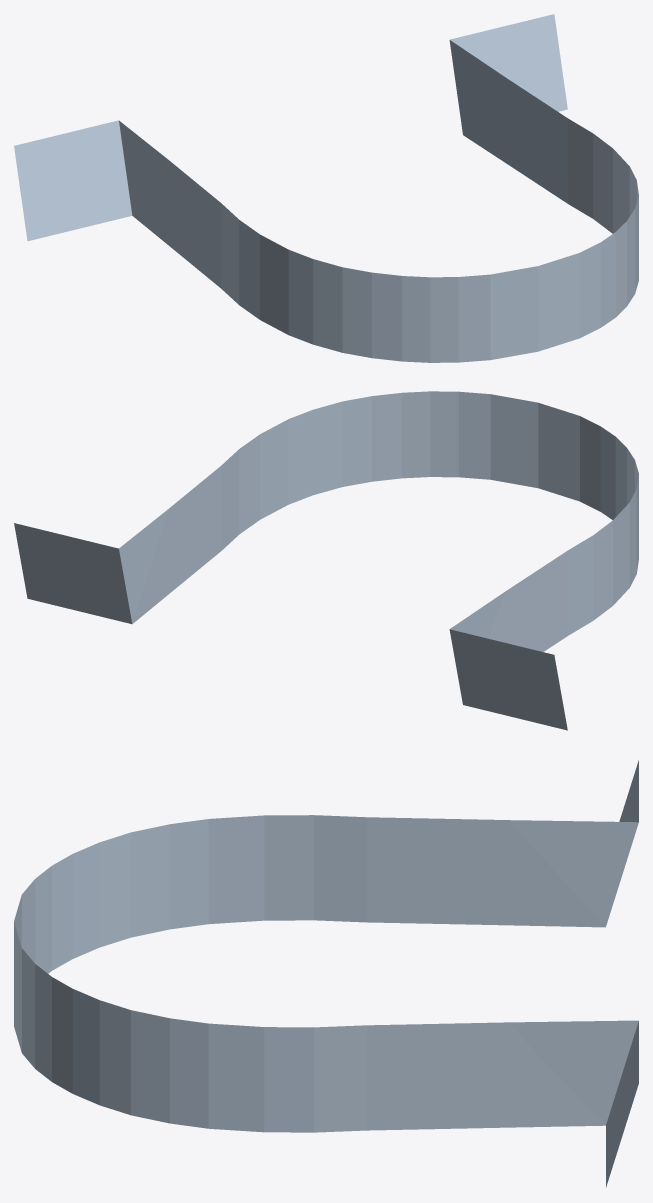
File: collision_wall.glb
The picture shows the model from 3 angles, top to bottom: view 1: azimuth 30°, elevation 25°; view 2: azimuth 150°, elevation 25°; view 3: azimuth 270°, elevation 25°; orthographic projection. The views are drawn at different scales.
Parts seen in each view (by area): view 1: Collision_wall; view 2: Collision_wall; view 3: Collision_wall.
Part boxes in pixels (left/top/right/bottom): Collision_wall: left=14, top=14, right=638, bottom=362; Collision_wall: left=14, top=391, right=638, bottom=730; Collision_wall: left=14, top=760, right=638, bottom=1187.
Size of the model in its own units: 11.09 by 1.68 by 9.04.
